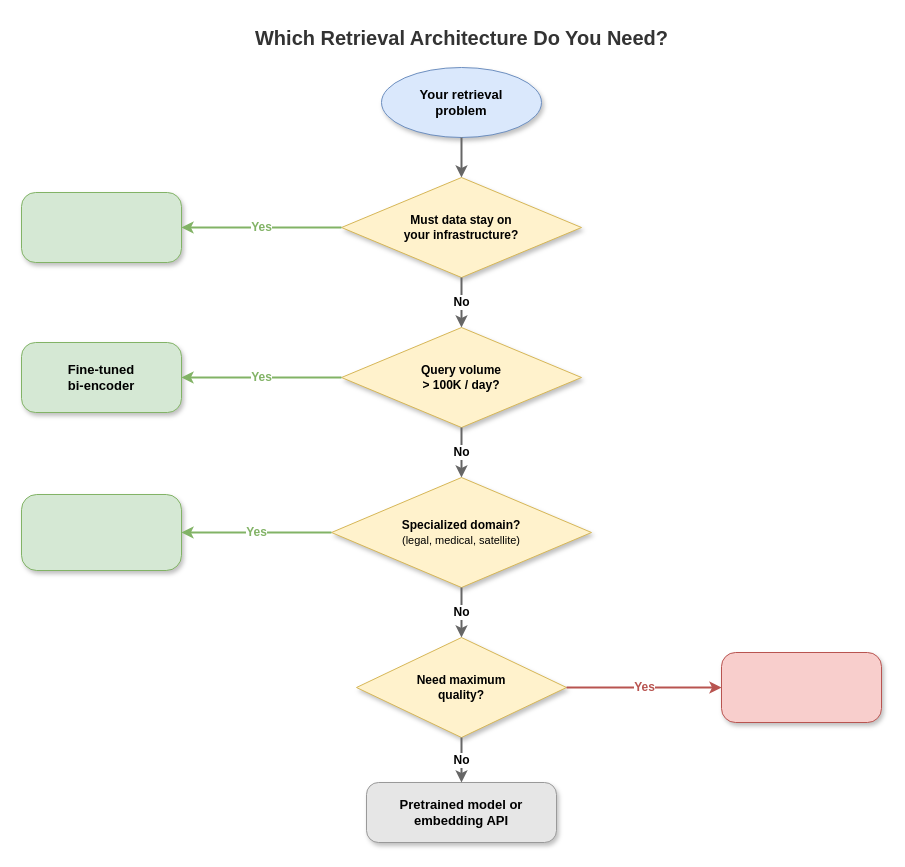
Image size: 905x867. Some labels were removed from this diagram. Each missing label, with the centre of its shape:
Fine-tune + LLM re-ranker khoji + re-ranker: the point at 102,534
Fine-tuned local model: the point at 102,229
LLM re-ranker: the point at 802,689
